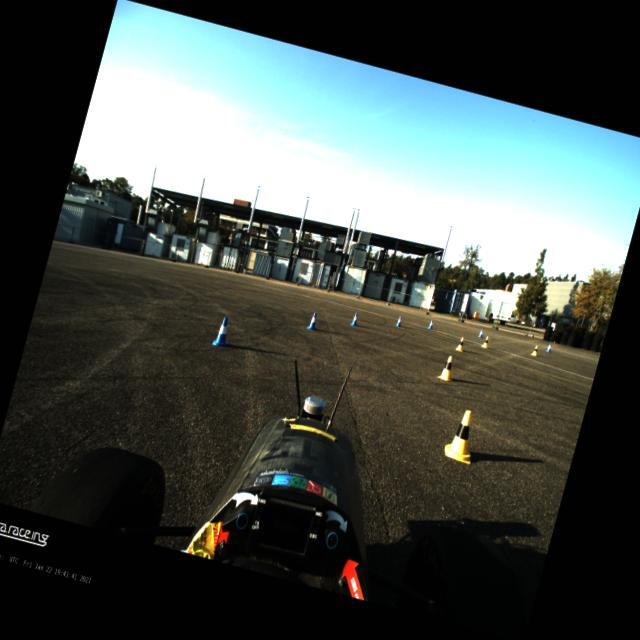blue_cone: (211, 315, 234, 349), (306, 310, 320, 330), (349, 312, 360, 326), (394, 315, 404, 327), (426, 319, 434, 330), (545, 342, 553, 352), (476, 328, 484, 338)
yellow_cone: (442, 407, 483, 465), (437, 354, 458, 382), (454, 336, 466, 352), (480, 336, 490, 348), (530, 344, 538, 356)
